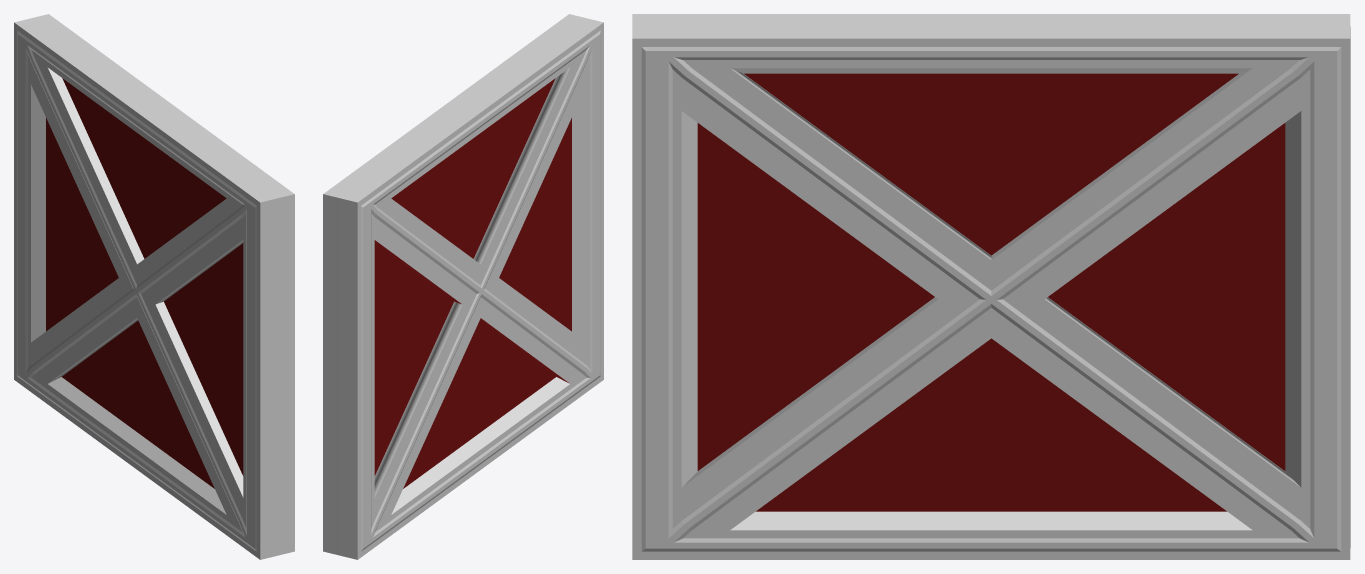
File: barn_door.FBX
3 renders of one model, left to right at view 1: azimuth 30°, elevation 25°; view 2: azimuth 150°, elevation 25°; view 3: azimuth 270°, elevation 25°, orthographic. The views are drawn at different scales.
Visible parts, largest first — view 1: Box004; view 2: Box004; view 3: Box004.
Part boxes in pixels (x1=…): Box004: x1=14, y1=14, x2=294, y2=559; Box004: x1=323, y1=14, x2=603, y2=559; Box004: x1=632, y1=14, x2=1350, y2=559.
Size of the model in its own units: 17.45 by 164 by 204.
